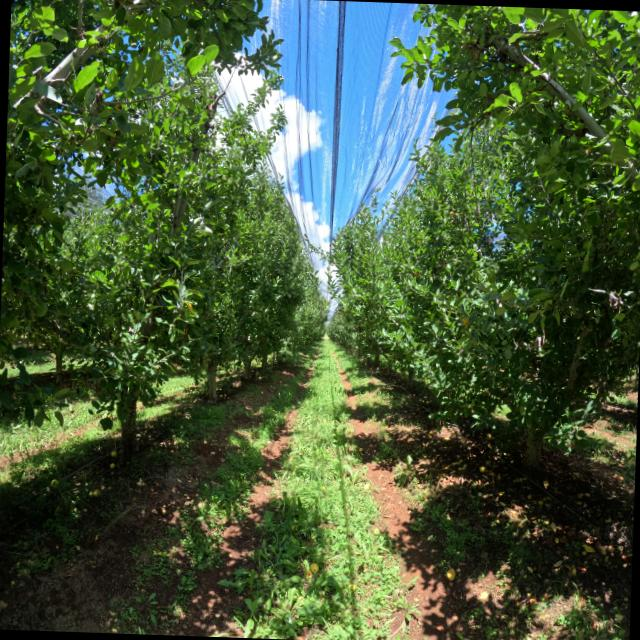-FireBlight-: (455, 37, 488, 60)
